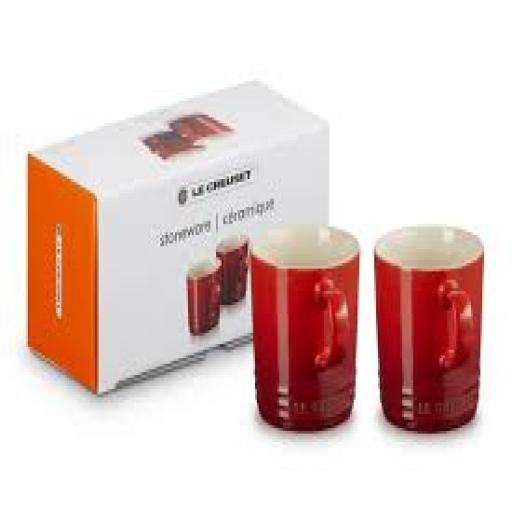red mug: (375, 227, 484, 430), (252, 224, 359, 430), (187, 261, 221, 335), (216, 236, 249, 304), (170, 115, 230, 142), (144, 132, 201, 159)
